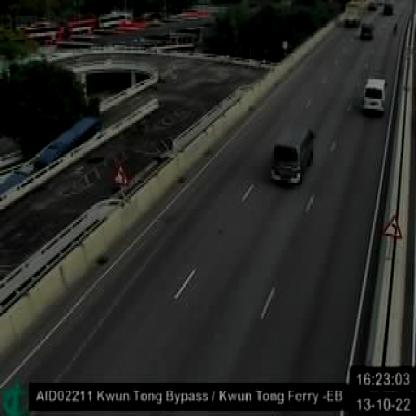Car: (271, 127, 314, 186), (362, 76, 388, 116), (360, 20, 375, 39)
